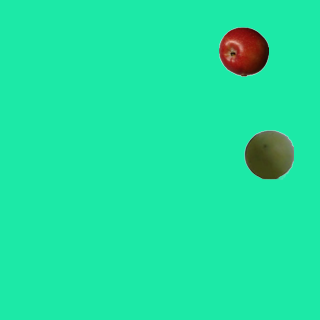Apple Braeburn: (218, 26, 268, 76)
Grape White 4: (243, 129, 293, 179)
